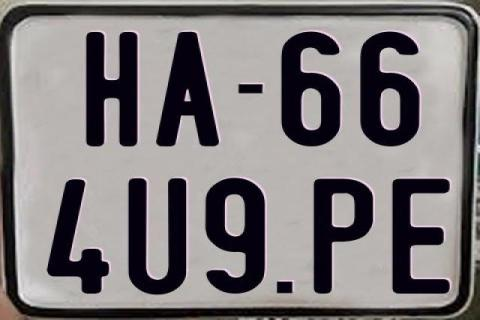0: (279, 29, 344, 145), (46, 177, 110, 293), (204, 176, 264, 293), (359, 31, 419, 147)
A: (156, 32, 218, 150)
E: (392, 176, 456, 294)
H: (84, 32, 134, 146)
P: (313, 178, 378, 296)
U: (128, 179, 192, 295)
